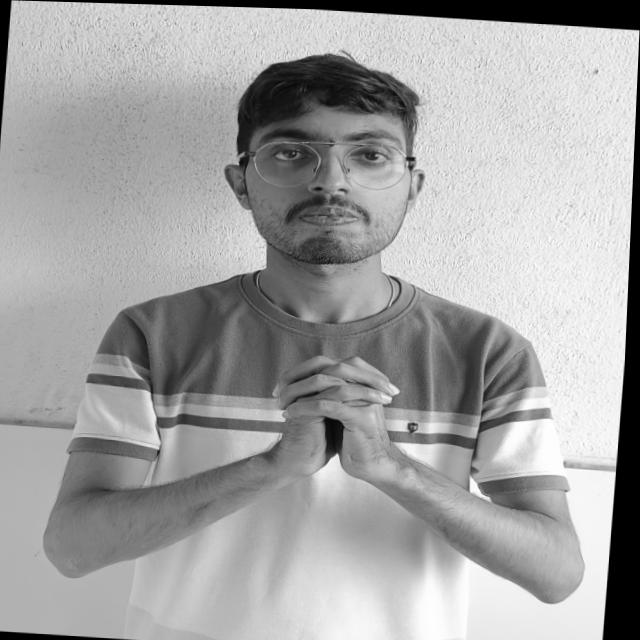Sorry: (231, 330, 468, 513)
